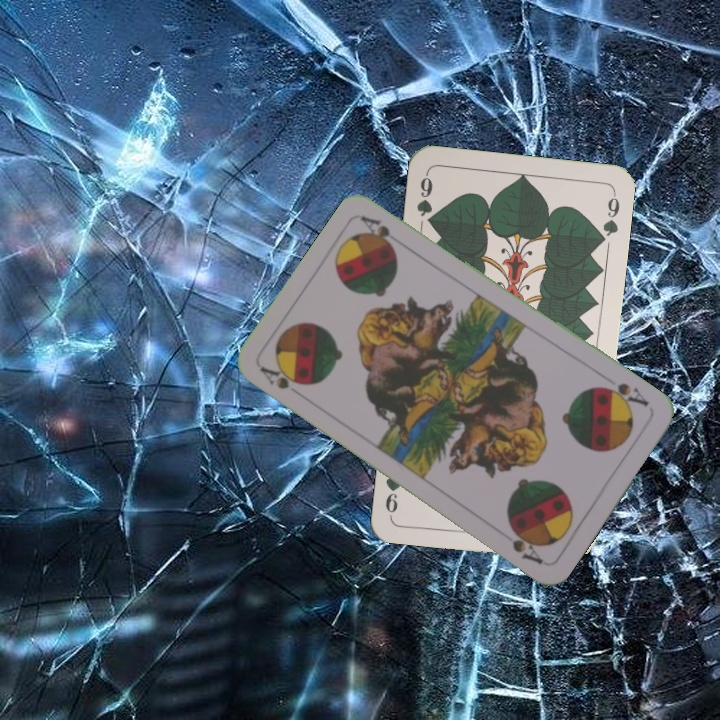G9: (412, 169, 437, 229)
SA: (596, 378, 652, 412), (256, 359, 311, 393)
